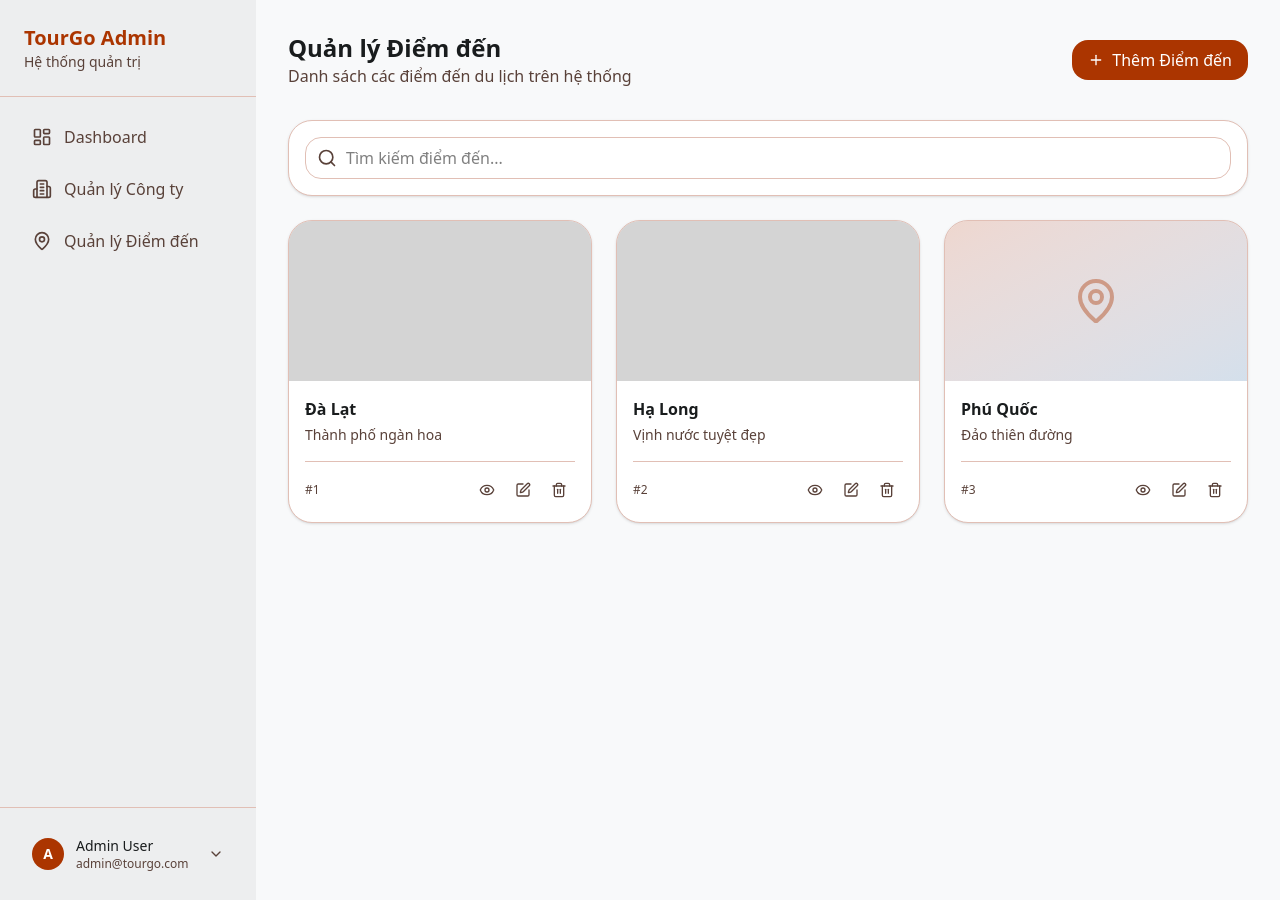
Test: DestinationsPage › filters destinations by search term
Expected: the heading "Đà Lạt" is shown, [305, 398, 356, 420]
In the field with placeholder "Tìm kiếm điểm đến...": (768, 158) [305, 137, 1231, 179], type "Đà Lạt"
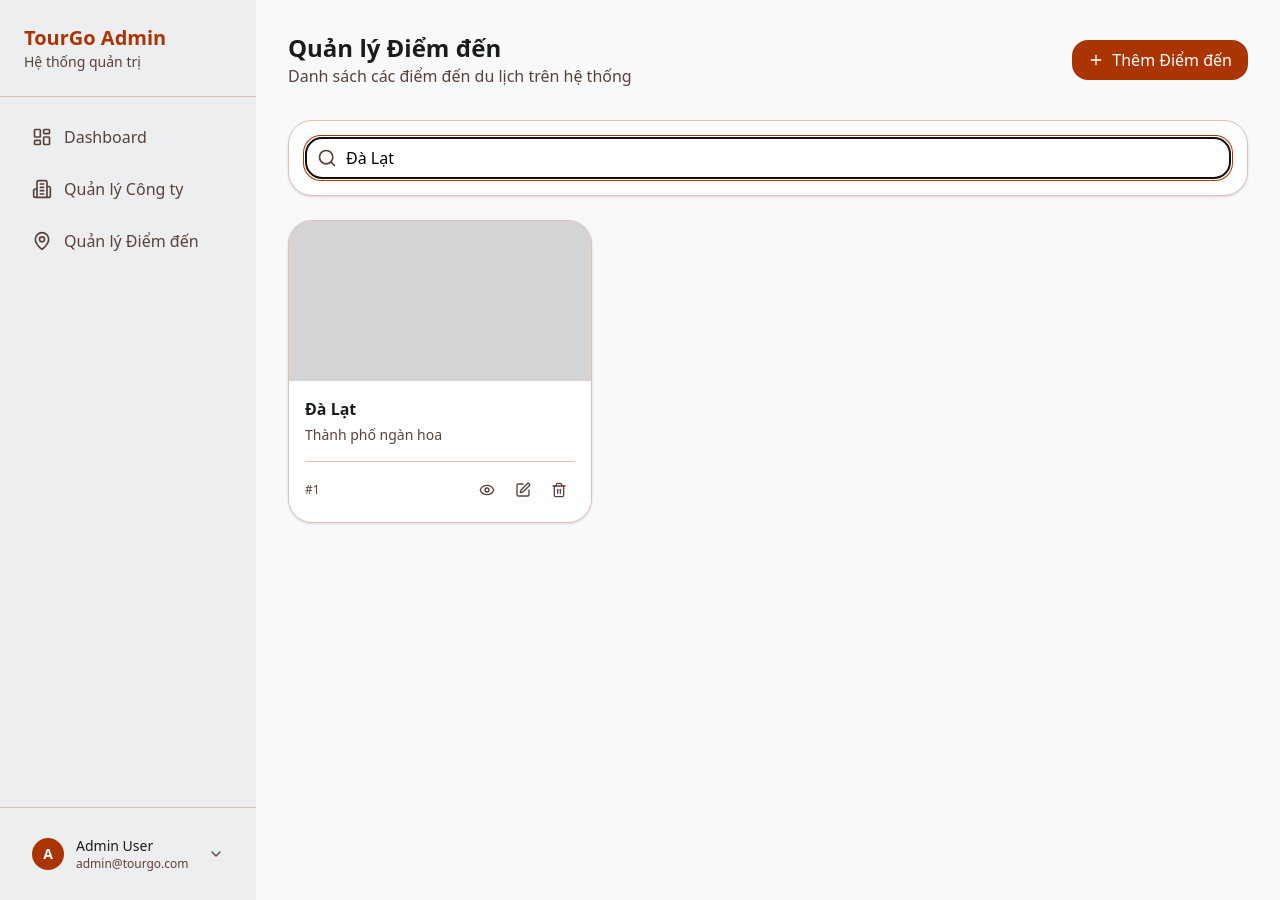
Expected: the heading "Đà Lạt" is shown, [305, 398, 356, 420]
Expected: the heading "Hạ Long" is gone
